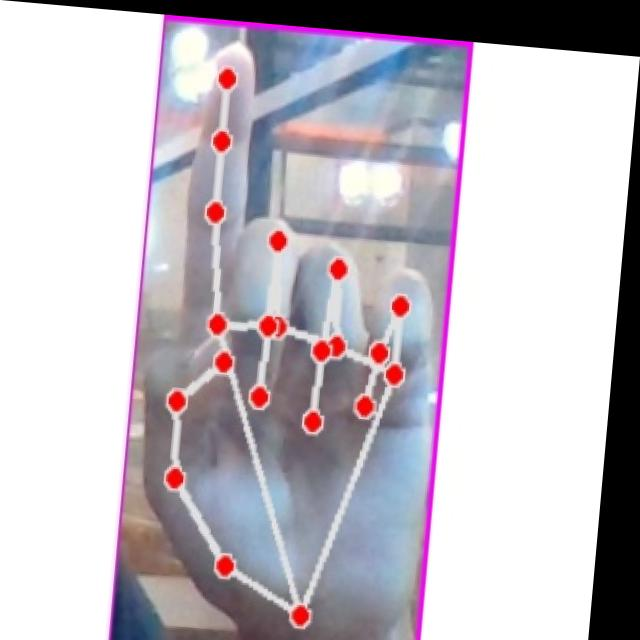D: (134, 31, 461, 640)
